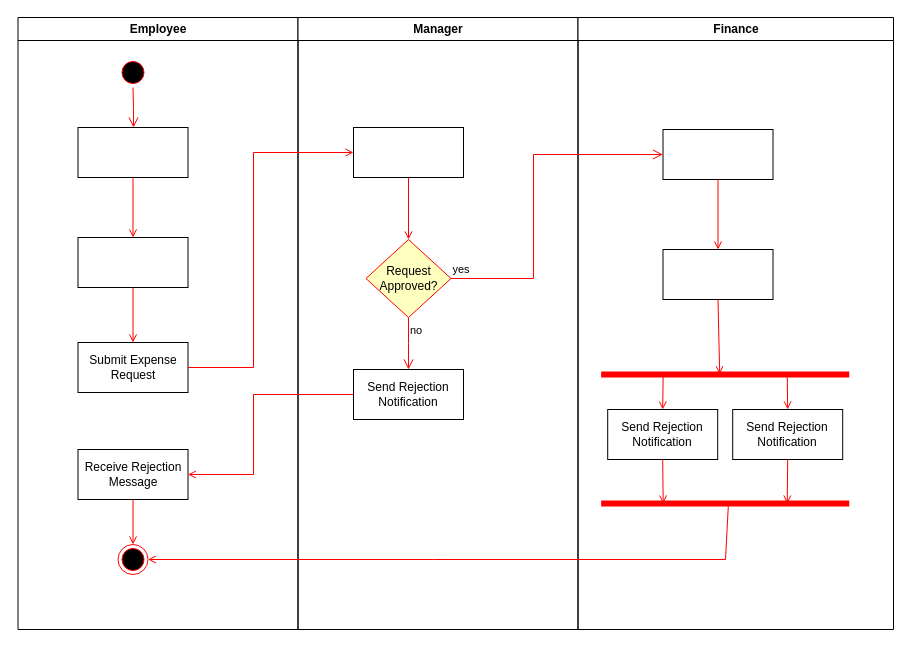
Some shapes in this 911 by 647 pixel diagram are drawn without their labels. Here are the shapes that lost their labels. From the top down, the centre of each, then its label:
At (x=132, y=152): "Create Expense Request".
At (x=408, y=152): "Review Expense Request".
At (x=717, y=154): "Verify Expense Details".
At (x=132, y=262): "Attach Receipts".
At (x=717, y=274): "Process Reimbursement".
